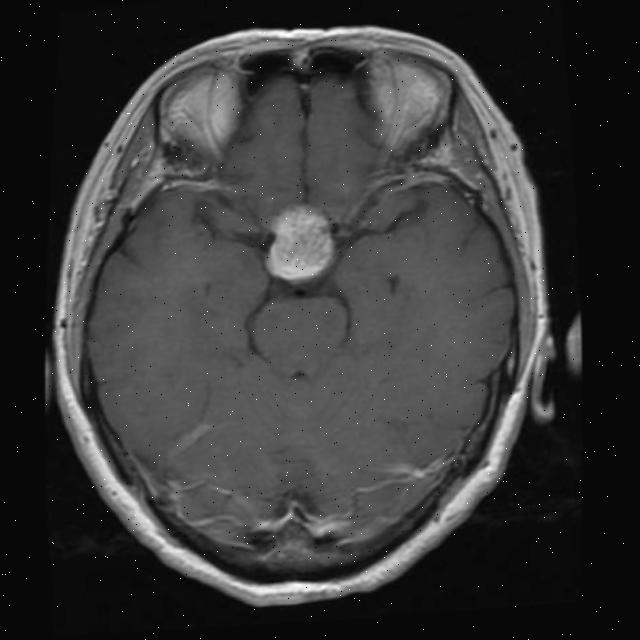Pituitary: (261, 203, 337, 286)
